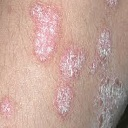Psoriasis: (92, 29, 126, 128), (57, 51, 86, 114), (32, 4, 58, 61)
